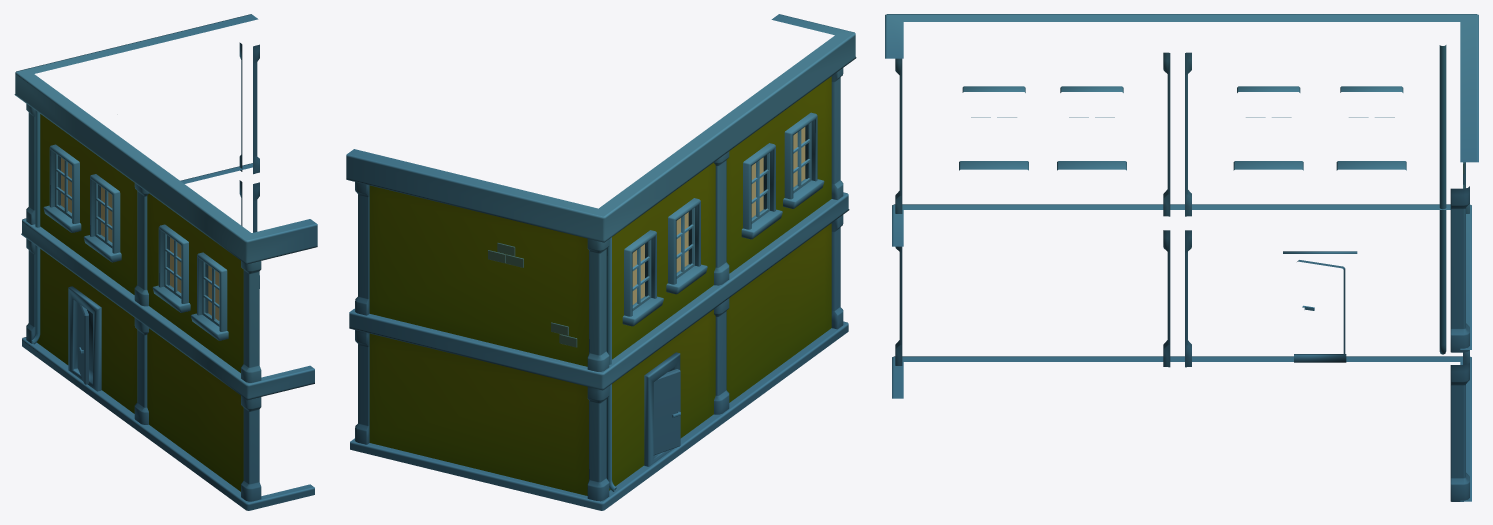
Rendered from Apartments01Night.glb.
3 views of the same model, side by side, from view 1: azimuth 30°, elevation 25°; view 2: azimuth 150°, elevation 25°; view 3: azimuth 270°, elevation 25° (orthographic). The views are drawn at different scales.
Parts seen in each view (by area): view 1: Apartments01Night; view 2: Apartments01Night; view 3: Apartments01Night.
Part boxes in pixels (x1=…): Apartments01Night: x1=14, y1=14, x2=317, y2=510; Apartments01Night: x1=346, y1=14, x2=856, y2=510; Apartments01Night: x1=885, y1=14, x2=1478, y2=501.
Size of the model in its own units: 10.7 by 11.66 by 17.96.
2 materials, 1 textured.
